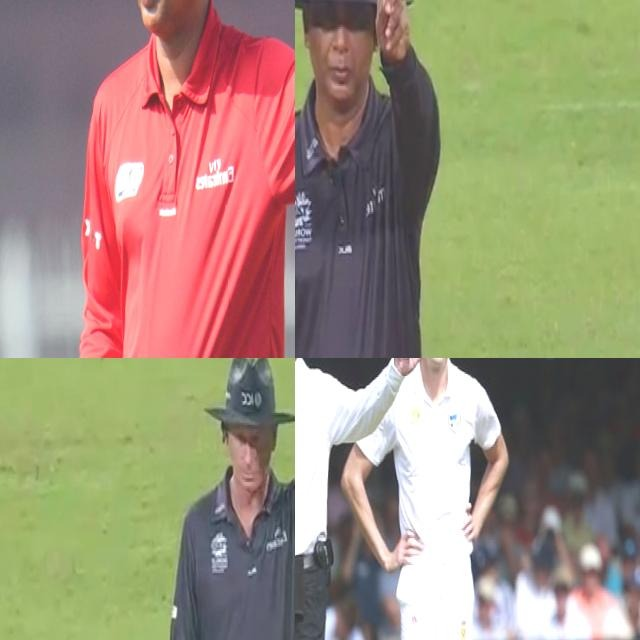No_Ball: (50, 0, 295, 358), (295, 358, 453, 640)
Out: (295, 0, 454, 358), (151, 358, 295, 640)
